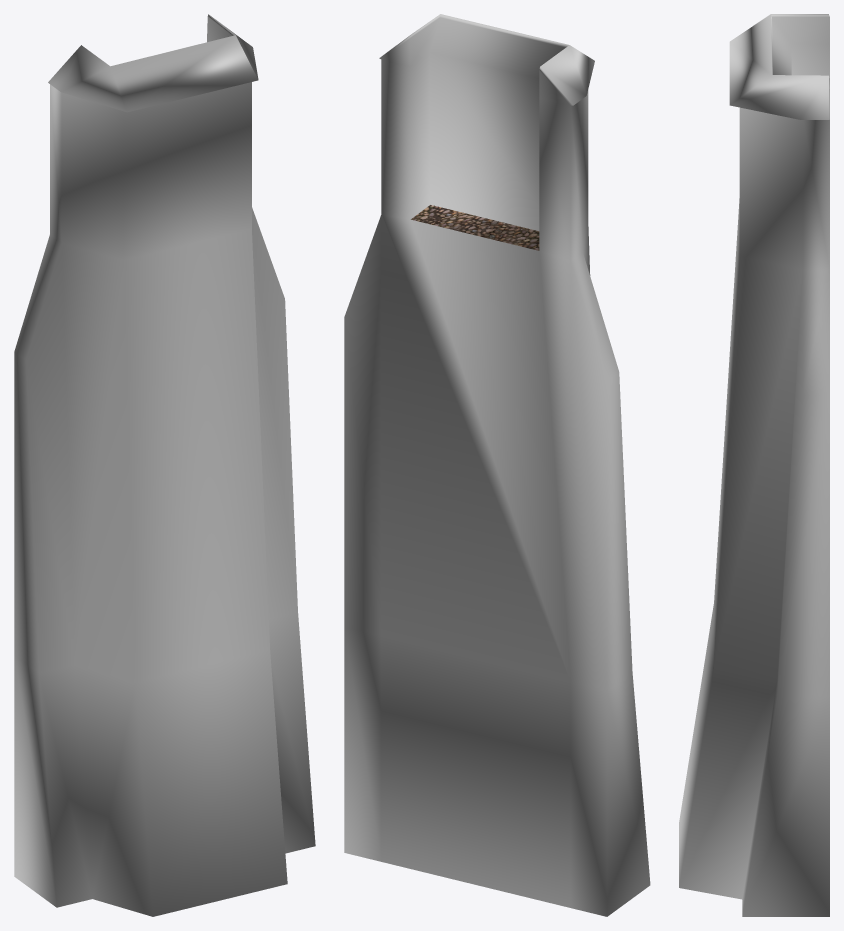
File: TowerA.fbx
3 renders of one model, left to right at view 1: azimuth 30°, elevation 25°; view 2: azimuth 150°, elevation 25°; view 3: azimuth 270°, elevation 25°, orthographic. The views are drawn at different scales.
Parts seen in each view (by area): view 1: TowerA; view 2: TowerA; view 3: TowerA.
Boxes of the visible parts, <box> form: TowerA: <box>14,14,315,916</box>; TowerA: <box>344,14,650,916</box>; TowerA: <box>679,14,829,916</box>.
Bounding box in the file's own units: 122 × 371 × 62.53.
